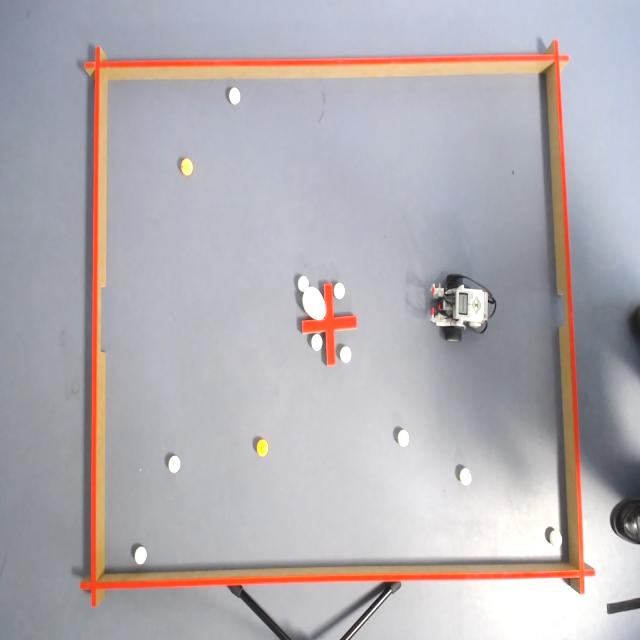boundaries: (540, 39, 592, 601), (74, 563, 599, 606), (83, 37, 572, 83), (78, 43, 108, 615)
cross: (302, 283, 358, 368)
egg: (302, 286, 326, 320)
large_goal: (75, 270, 117, 370)
orange_ball: (180, 158, 193, 176), (256, 439, 268, 458)
robot: (428, 272, 497, 343)
small_goal: (545, 271, 578, 341)
white_ball: (227, 85, 242, 106), (134, 546, 148, 566), (397, 428, 410, 448), (168, 454, 181, 474), (549, 530, 563, 548), (459, 467, 472, 486), (310, 333, 323, 352), (334, 281, 346, 301), (340, 345, 352, 365), (297, 274, 309, 293)
